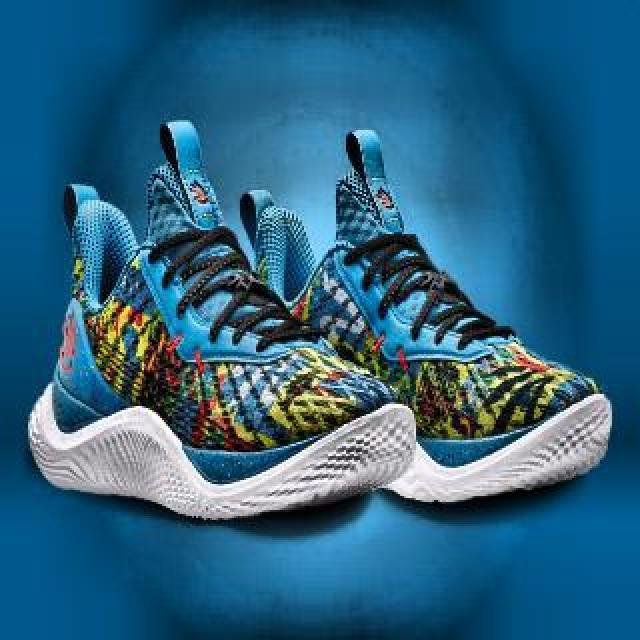shoe: (27, 131, 413, 523), (232, 129, 610, 507)
